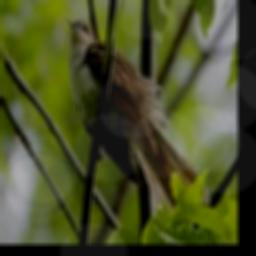Cuckoo: (64, 14, 210, 209)
